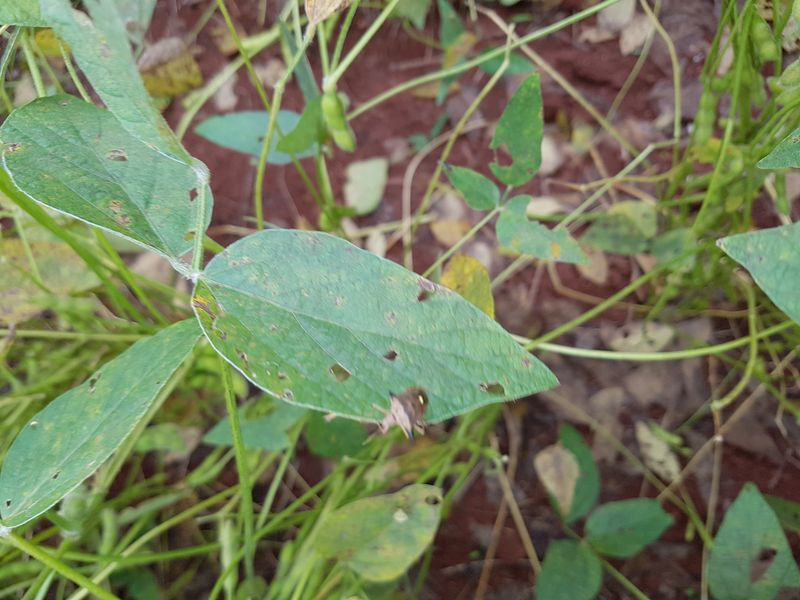Euschistus_heros_adulto: (364, 379, 438, 446)
